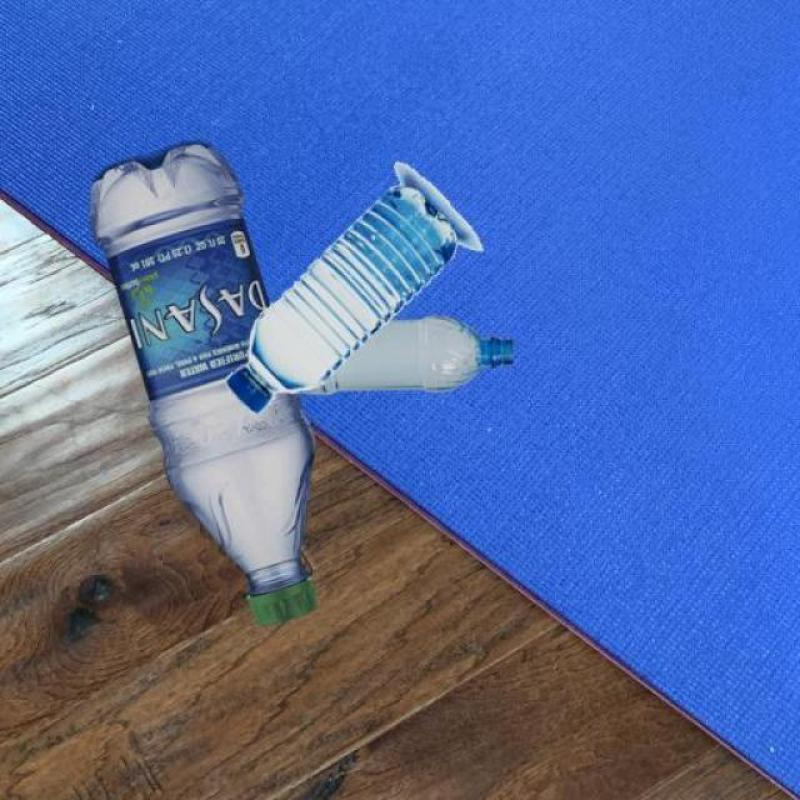botella: (92, 140, 318, 624), (228, 182, 460, 418), (282, 314, 518, 394)
